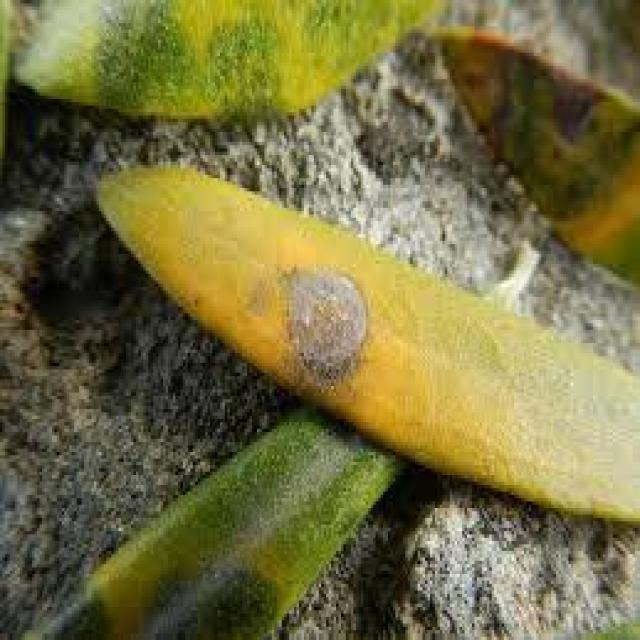Peacock Eye: (99, 165, 638, 505), (25, 410, 390, 637), (442, 30, 638, 264)
